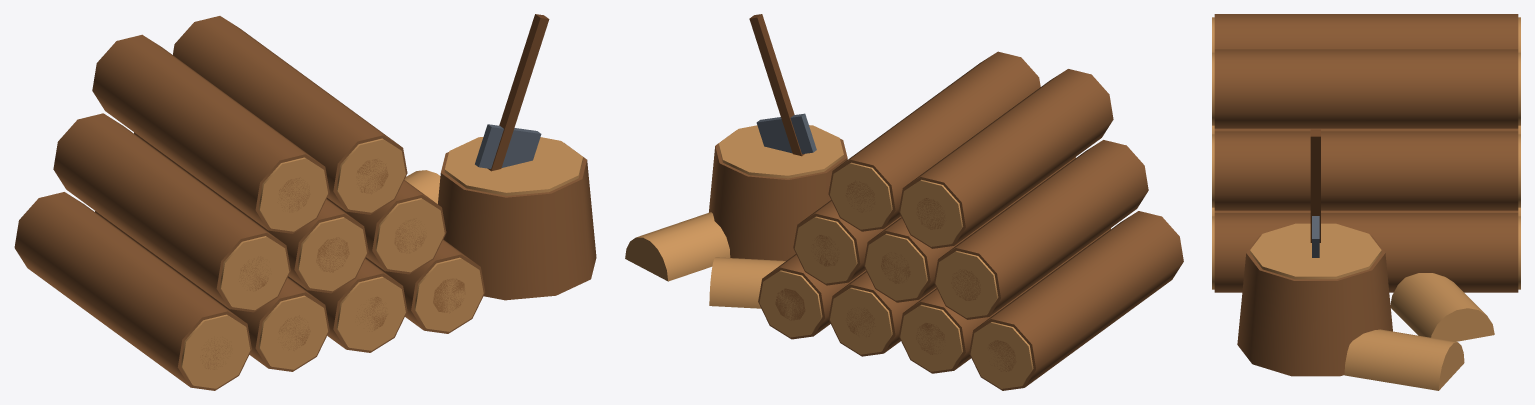
The model's file is Woodpile.glb.
3 views of the same model, side by side, from view 1: azimuth 30°, elevation 25°; view 2: azimuth 150°, elevation 25°; view 3: azimuth 270°, elevation 25° (orthographic). The views are drawn at different scales.
Visible parts, largest first — view 1: Body; view 2: Body; view 3: Body.
Boxes of the visible parts, bbox=[...] form: Body: bbox=[14, 14, 596, 390]; Body: bbox=[625, 14, 1183, 390]; Body: bbox=[1212, 14, 1520, 390].
Size of the model in its own units: 4.22 by 1.97 by 2.44.
1 material, 1 textured.
